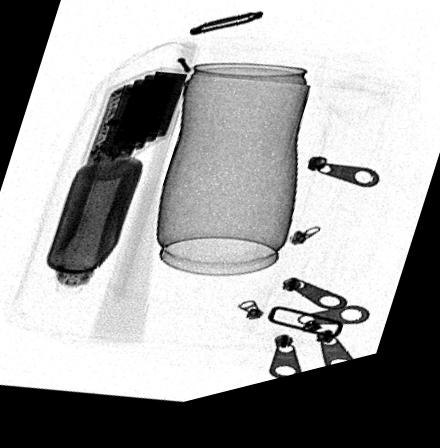Powerbank: (78, 74, 193, 174)
